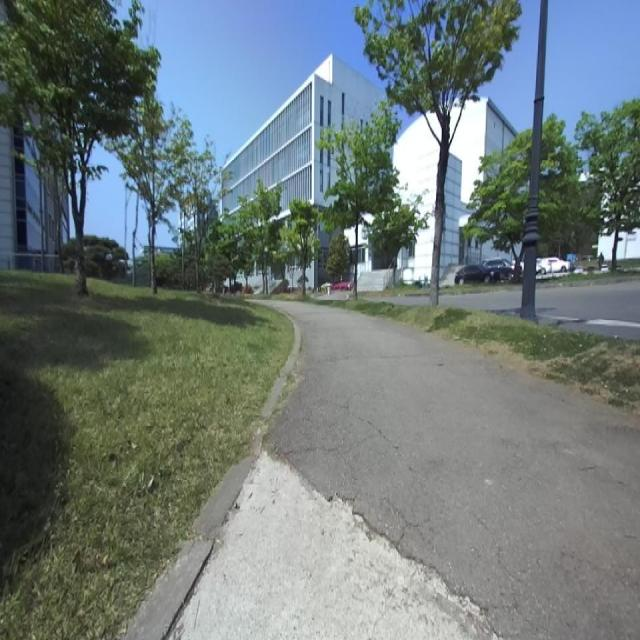sidewalk: (122, 300, 640, 640)
